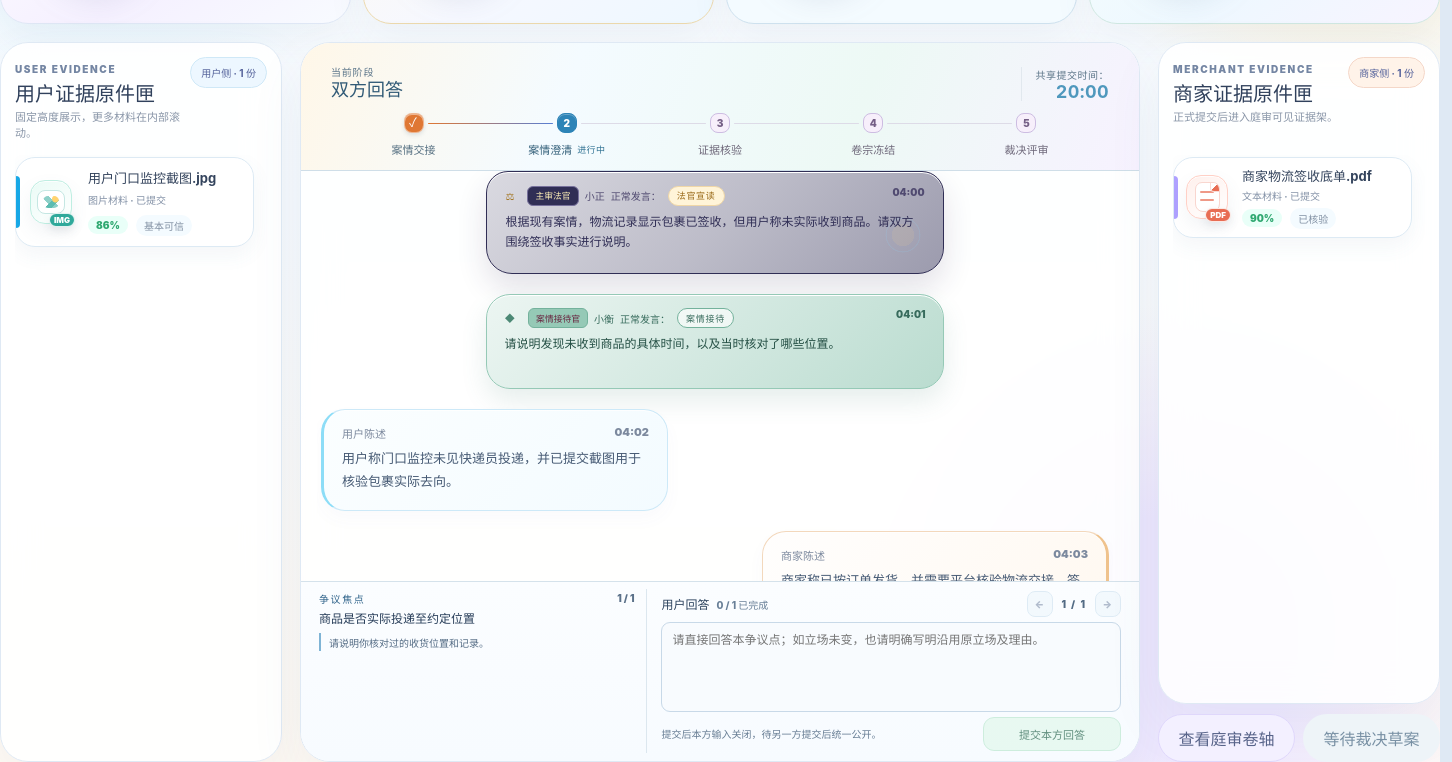
Test: HearingCourtView › submits one issue-bound V4 answer and then locks the party input
(page scrolled)
Expected: the element showing "争议焦点 1 / 1 商品是否实际投递至约定位置 请说明你核对过的收货位置和记录。" is shown, [317, 589, 648, 753]
Expected: the text "请说明你核对过的收货位置和记录。" is shown, [319, 633, 636, 651]
Type "我在签收通知到达后立即核对了门口、前台和监控记录。" into the text box with placeholder "请直接回答本争议点；如立场未变，也请明确写明沿用原立场及理由。".
click(891, 667); type("我在签收通知到达后立即核对了门口、前台和监控记录。")  # box [662, 622, 1121, 712]
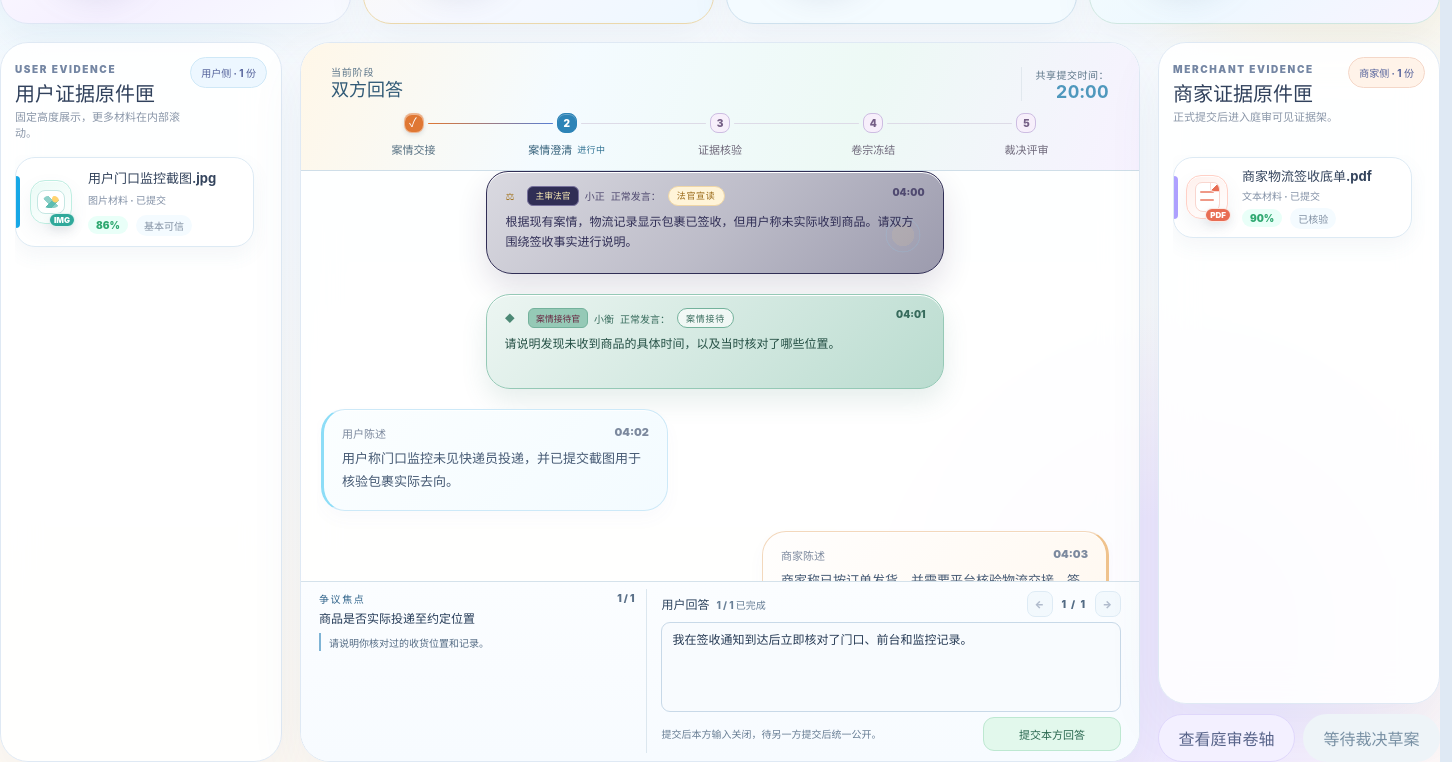
Click the button "提交本方回答".
click(1052, 734)  # box [983, 717, 1121, 751]
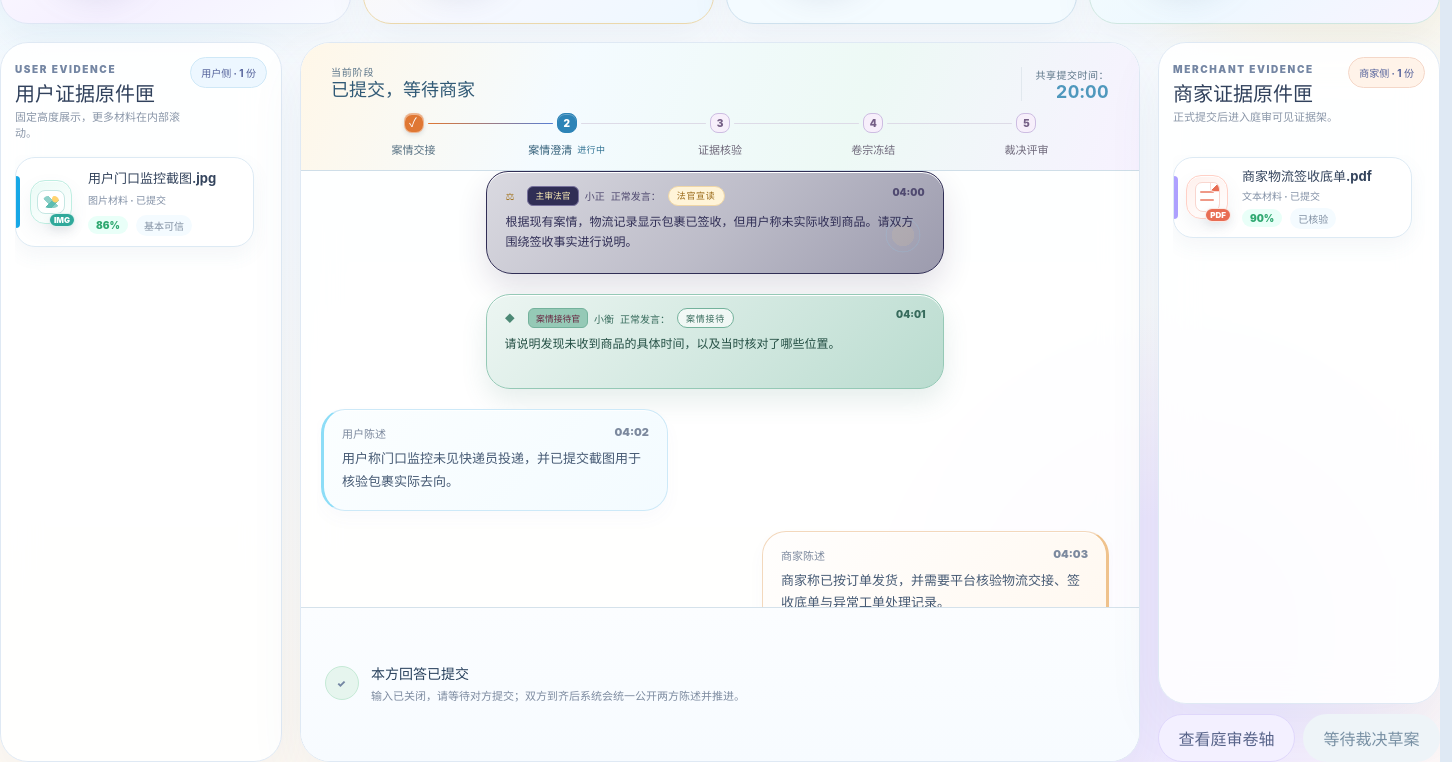
Now the element showing "✓ 本方回答已提交 输入已关闭，请等待对方提交；双方到齐后系统会统一公开两方陈述并推进。" is shown, box [325, 665, 745, 703]
